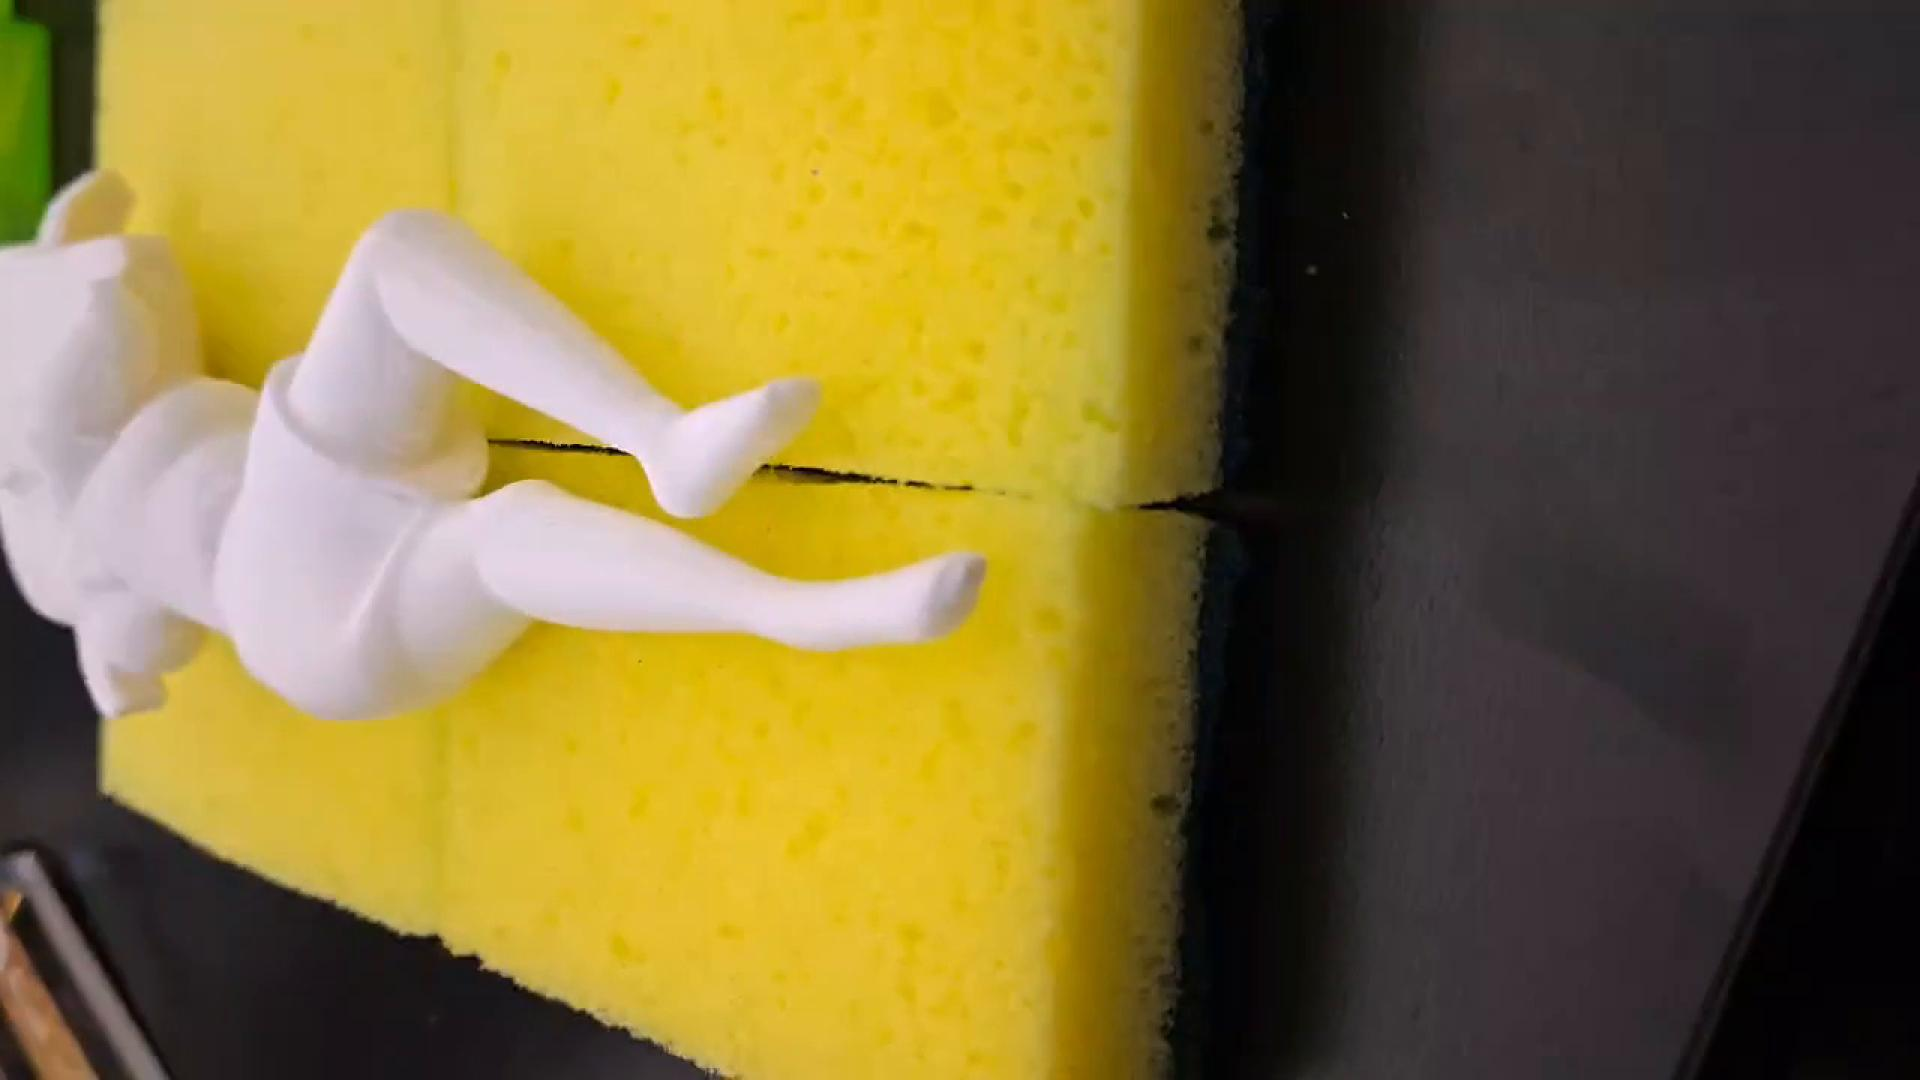Good-style: (0, 162, 988, 721)
